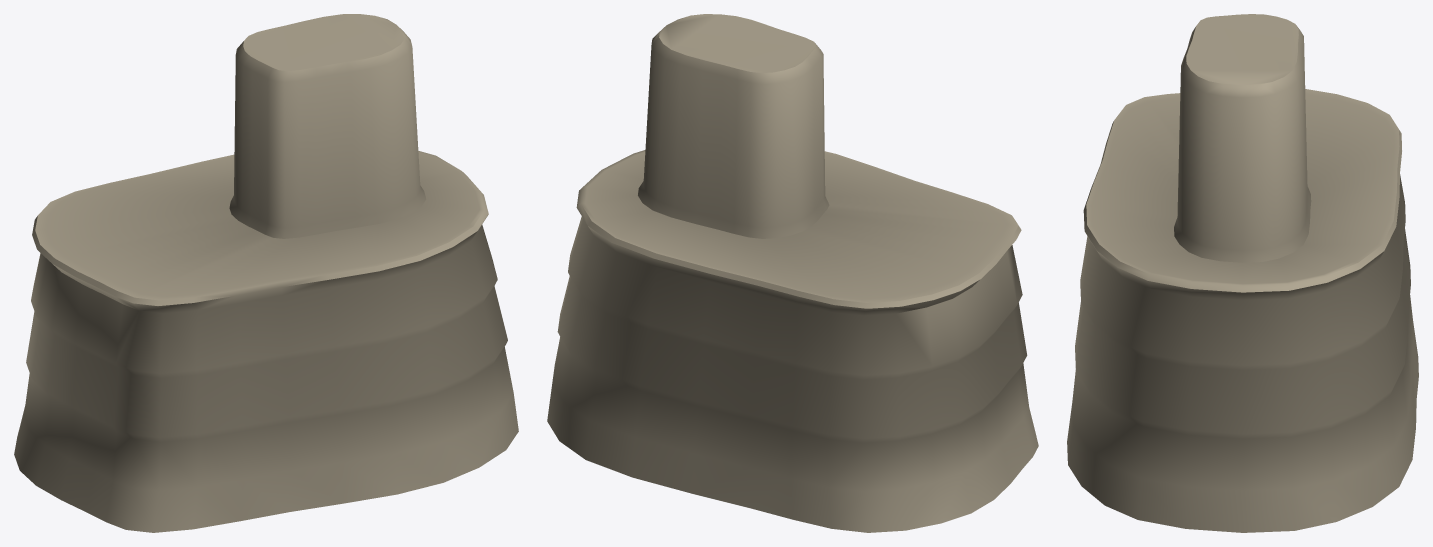
The model's file is sky_mesa.glb.
The picture shows the model from 3 angles, left to right: view 1: azimuth 30°, elevation 25°; view 2: azimuth 150°, elevation 25°; view 3: azimuth 270°, elevation 25°; orthographic projection. The views are drawn at different scales.
Parts seen in each view (by area): view 1: MesaHull; view 2: MesaHull; view 3: MesaHull.
Boxes of the visible parts, box(x1,y1,x2,y2) form: MesaHull: box(14, 14, 518, 532); MesaHull: box(547, 14, 1038, 532); MesaHull: box(1067, 14, 1418, 532).
Bounding box in the file's own units: 60 × 50 × 40.
